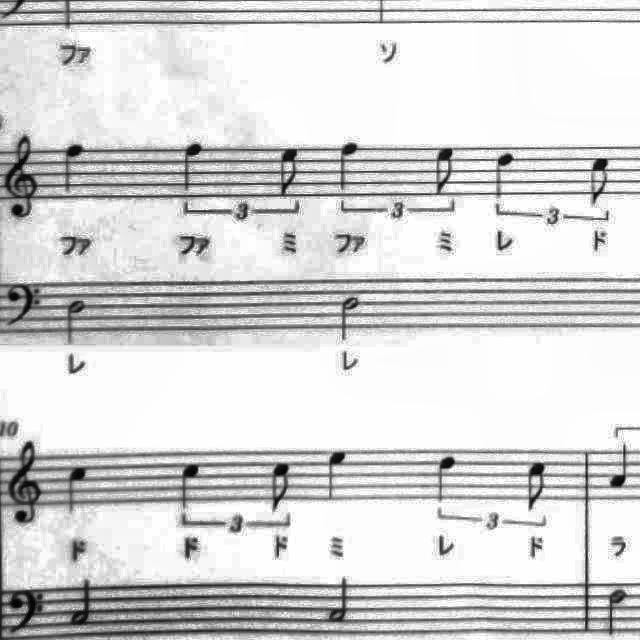Bass-clef: (0, 276, 46, 336)
Eighth-note: (2, 583, 52, 640), (262, 456, 302, 520), (518, 457, 556, 517), (584, 150, 620, 210), (428, 142, 462, 202), (272, 144, 306, 202)
Half-note: (598, 580, 634, 638), (66, 573, 102, 631), (59, 292, 93, 348), (325, 570, 359, 626), (334, 290, 366, 346)
Quarter-note: (319, 442, 356, 506), (59, 459, 96, 521), (172, 457, 208, 519), (430, 448, 466, 508), (56, 138, 92, 198), (486, 144, 522, 203), (173, 138, 209, 196), (604, 436, 640, 494), (332, 137, 366, 196)
Treble-clef: (0, 436, 48, 531), (1, 130, 44, 226)
